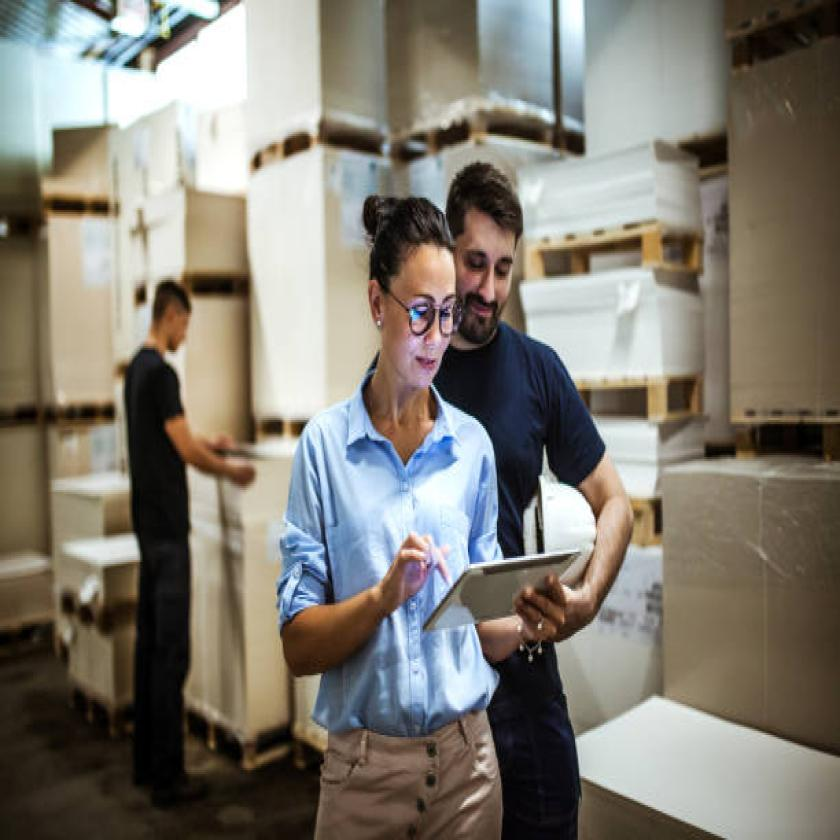Sin_casco: (347, 163, 460, 415), (440, 158, 531, 348), (149, 262, 198, 379)
